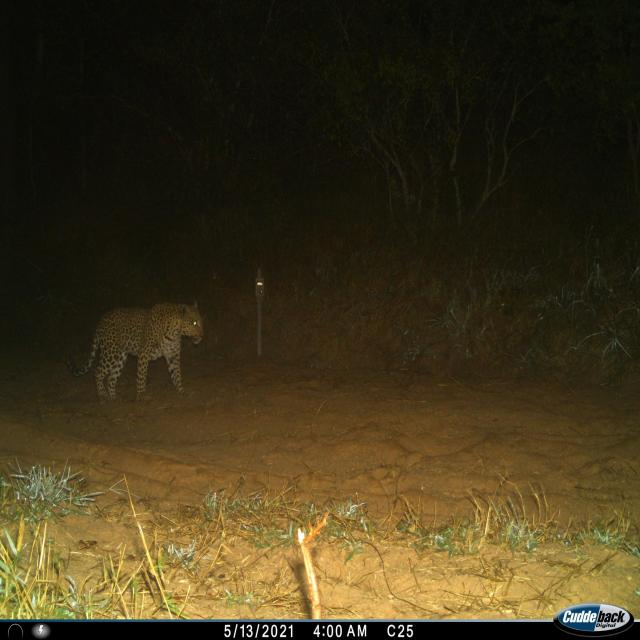Leopard: (74, 294, 204, 406)
